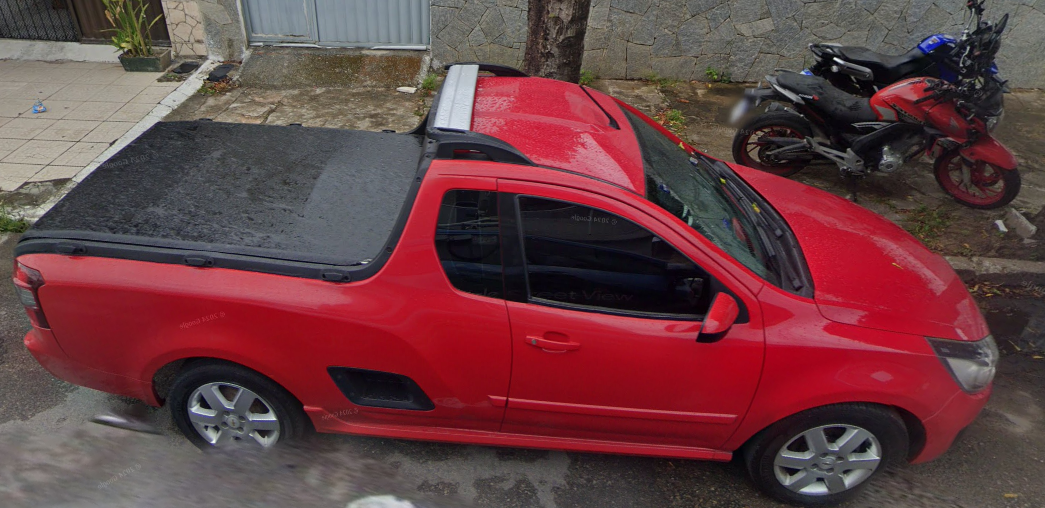car: (28, 68, 996, 501)
